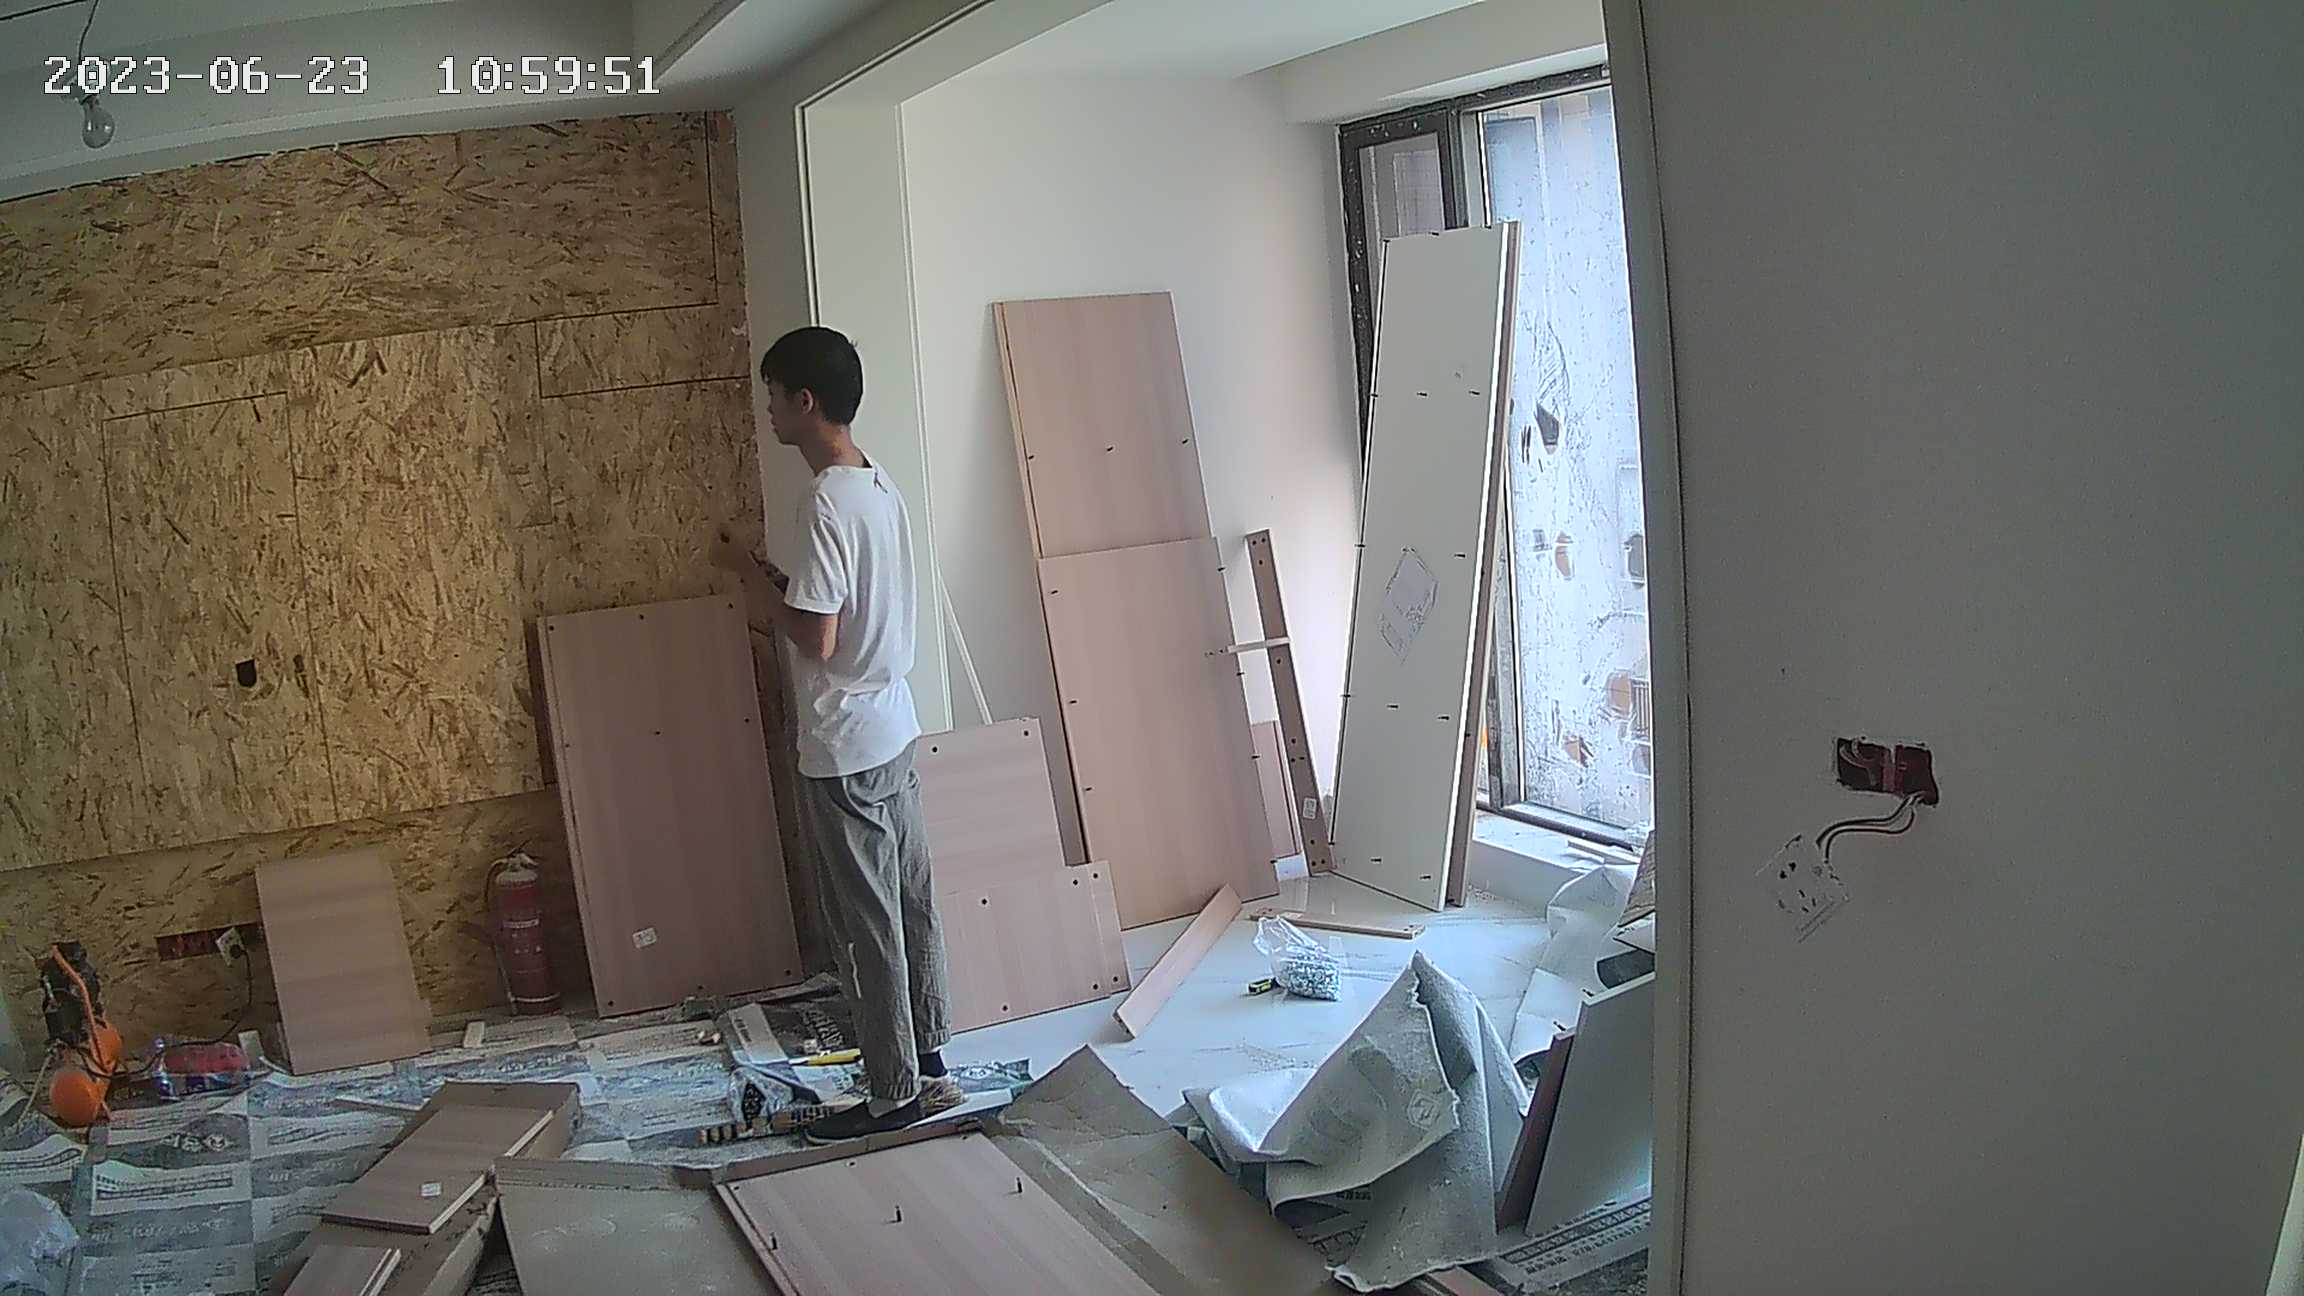people: (711, 326, 972, 1134)
window: (1334, 115, 1683, 862)
